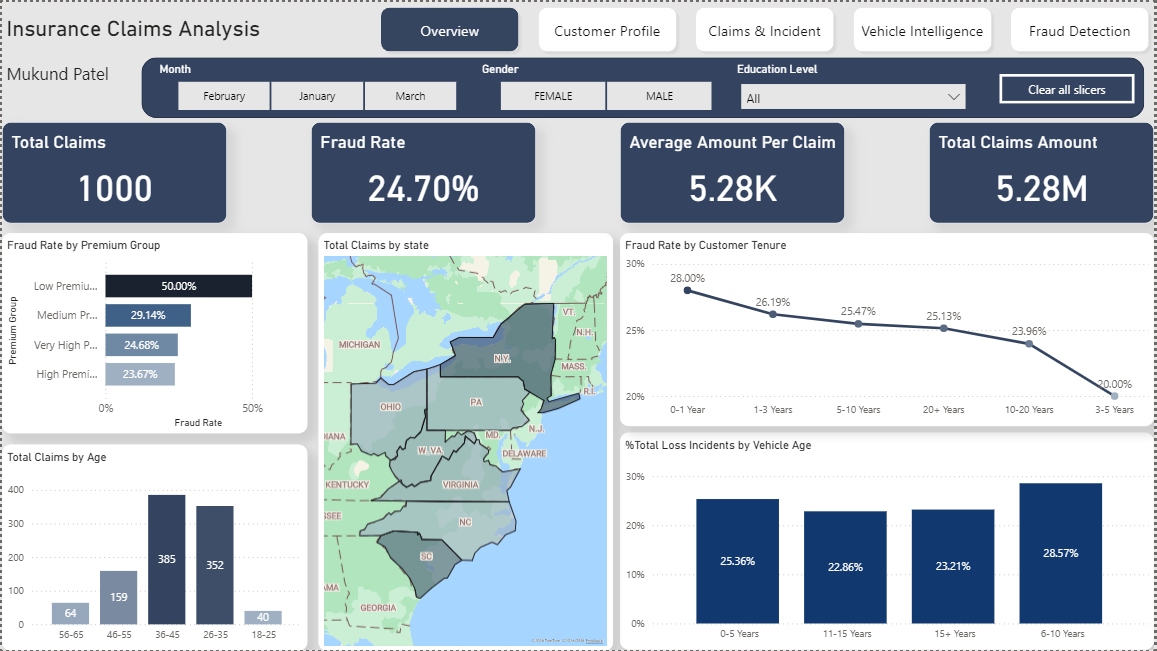

What the dashboard file says about the page in this screenshot:
{"tool":"powerbi","page":{"name":"Overview","canvas":[1280,720],"ordinal":0},"visuals":[{"type":"card","title":"Fraud Rate","fields":{"Values":["_Measures.FraudRate"]},"box":[342.9,132.9,250,112.9],"z":0},{"type":"card","title":"Average Amount Per Claim","fields":{"Values":["_Measures.AvgTotalClaimsAmount"]},"box":[687.1,132.9,250,112.9],"z":1000},{"type":"card","title":"Total Claims Amount","fields":{"Values":["_Measures.TotalClaimAmount"]},"box":[1030,132.9,250,112.9],"z":2000},{"type":"card","title":"Total Claims","fields":{"Values":["_Measures.TotalClaims"]},"box":[0,132.9,250,112.9],"z":3000},{"type":"clusteredBarChart","fields":{"Category":["ClaimsData.PremiumGroup"],"Y":["_Measures.FraudRate"]},"box":[0,256,339.6,223],"z":4000},{"type":"clusteredColumnChart","fields":{"Category":["ClaimsData.AgeGroup"],"Y":["_Measures.TotalClaims"]},"box":[0,491.4,339.6,229.2],"z":5000},{"type":"azureMap","fields":{"Category":["ClaimsData.incident_state"]},"box":[351,256,327.2,464.5],"z":6000},{"type":"clusteredColumnChart","title":"%Total Loss Incidents by Vehicle Age","fields":{"Category":["ClaimsData.VehicleAgeGroup"],"Series":["IncidentSeverityTable.Severity"],"Y":["_Measures.TotalClaims"]},"box":[686.5,479,593.5,241.5],"z":7000},{"type":"lineChart","title":"Fraud Rate by Customer Tenure","fields":{"Category":["ClaimsData.TenureGroup"],"Y":["_Measures.FraudRate"]},"box":[686.5,256,593.5,214.7],"z":8000},{"type":"textbox","box":[0,10,414.3,44.3],"z":9000},{"type":"textbox","box":[0,61.4,261.4,35.7],"z":10000},{"type":"pageNavigator","box":[414.3,0,865.7,61.4],"z":11000},{"type":"shape","box":[155.7,61.4,1114.3,67.1],"z":12000,"group":"g1"},{"type":"slicer","title":"Month","fields":{"Values":["DateTable.Month"]},"box":[170,65.7,358.6,60],"z":13000,"group":"g1"},{"type":"slicer","title":"Gender","fields":{"Values":["ClaimsData.insured_sex"]},"box":[528.6,65.7,284.3,60],"z":14000,"group":"g1"},{"type":"slicer","title":"Education Level","fields":{"Values":["ClaimsData.EducationGroup"]},"box":[812.8,65.7,268.6,55.7],"z":15000,"group":"g1"},{"type":"actionButton","box":[1108.6,80,150,32.9],"z":16000,"group":"g1"},{"type":"group","id":"g1","title":"Slicers","box":[155.7,61.4,1114.3,67.1],"z":16001}]}

Visuals, with their boxes in screenshot pixels (x1, y1, x2, y2), scaled from the page's 1280x720 canvas onto the 1157x651 screenshot:
"Fraud Rate" card: region(310, 120, 536, 222)
"Average Amount Per Claim" card: region(621, 120, 847, 222)
"Total Claims Amount" card: region(931, 120, 1156, 222)
"Total Claims" card: region(0, 120, 226, 222)
clusteredBarChart - ClaimsData.PremiumGroup x _Measures.FraudRate: region(0, 231, 307, 433)
clusteredColumnChart - ClaimsData.AgeGroup x _Measures.TotalClaims: region(0, 444, 307, 650)
azureMap - ClaimsData.incident_state: region(317, 231, 613, 650)
"%Total Loss Incidents by Vehicle Age" clusteredColumnChart: region(621, 433, 1156, 650)
"Fraud Rate by Customer Tenure" lineChart: region(621, 231, 1156, 426)
textbox: region(0, 9, 374, 49)
textbox: region(0, 56, 236, 88)
pageNavigator: region(374, 0, 1156, 56)
shape: region(141, 56, 1148, 116)
"Month" slicer: region(154, 59, 478, 114)
"Gender" slicer: region(478, 59, 735, 114)
"Education Level" slicer: region(735, 59, 977, 110)
actionButton: region(1002, 72, 1138, 102)
"Slicers" group: region(141, 56, 1148, 116)
